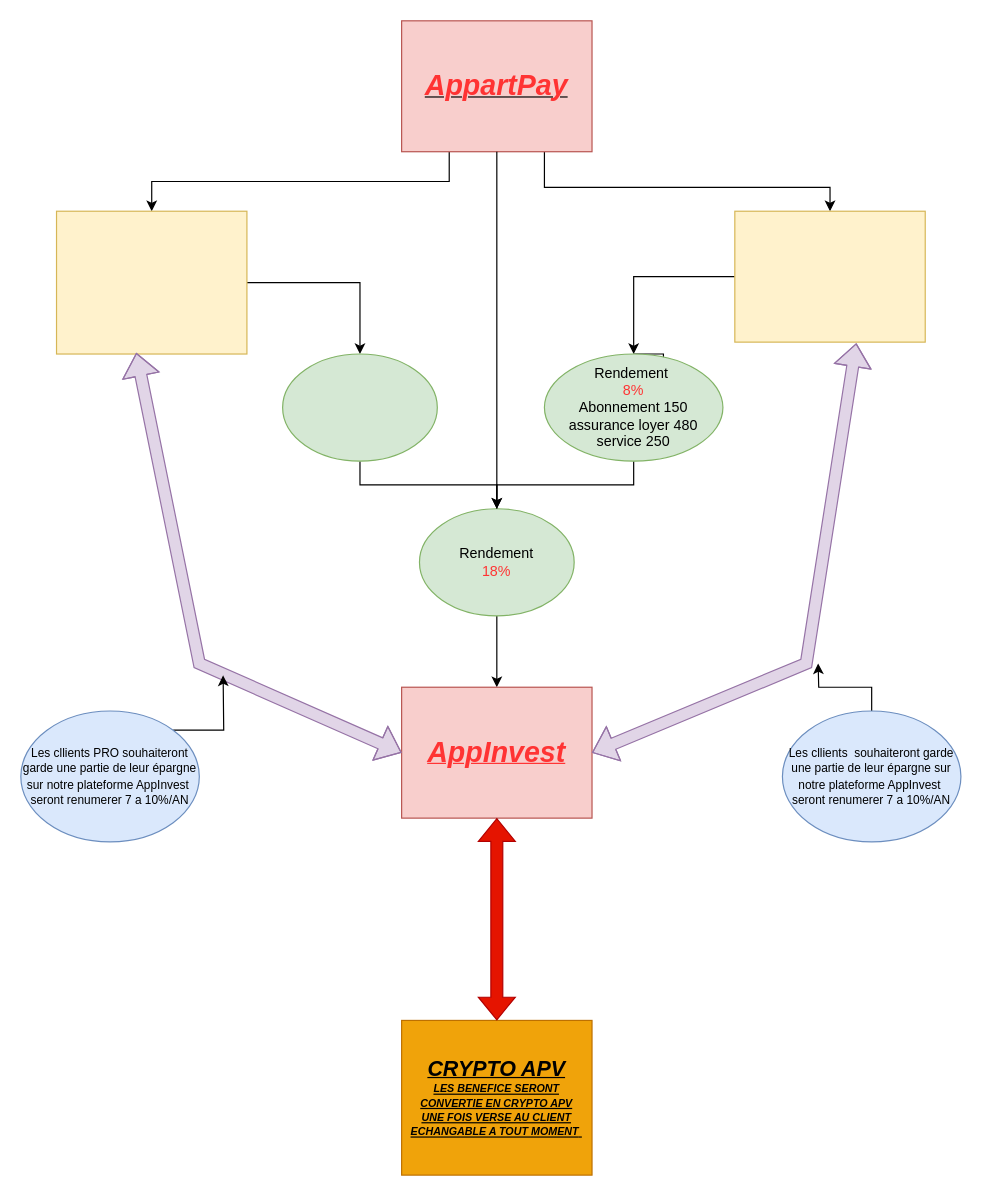
This 982x1196 diagram has some shape labels left out. Each missing label, with the centre of its shape:
Locataire: the point at 829,276
Proprietaire: the point at 151,282
Rendement 10% abonnement 250 assurance 250 service 500: the point at 359,407
